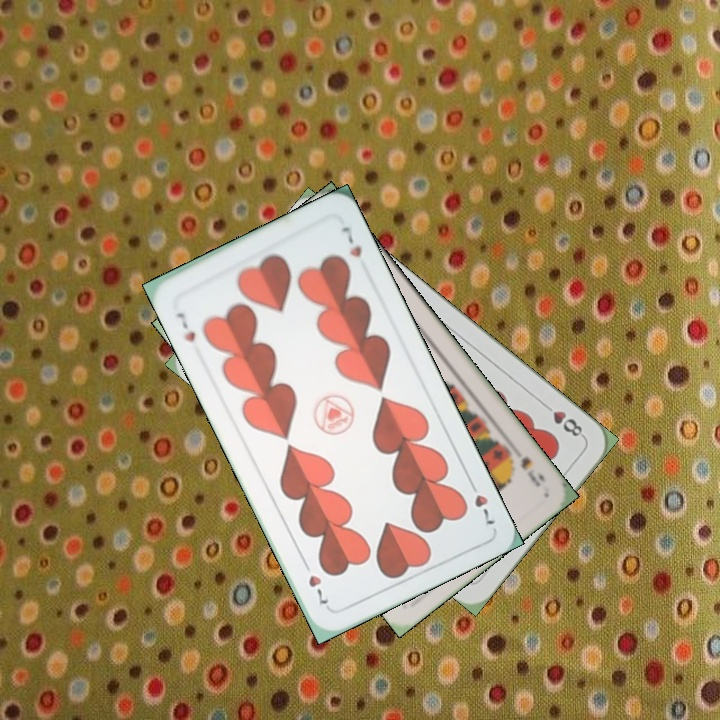H7: (464, 474, 497, 528), (172, 308, 198, 345)
H8: (538, 398, 587, 441)
S9: (516, 452, 549, 490)
